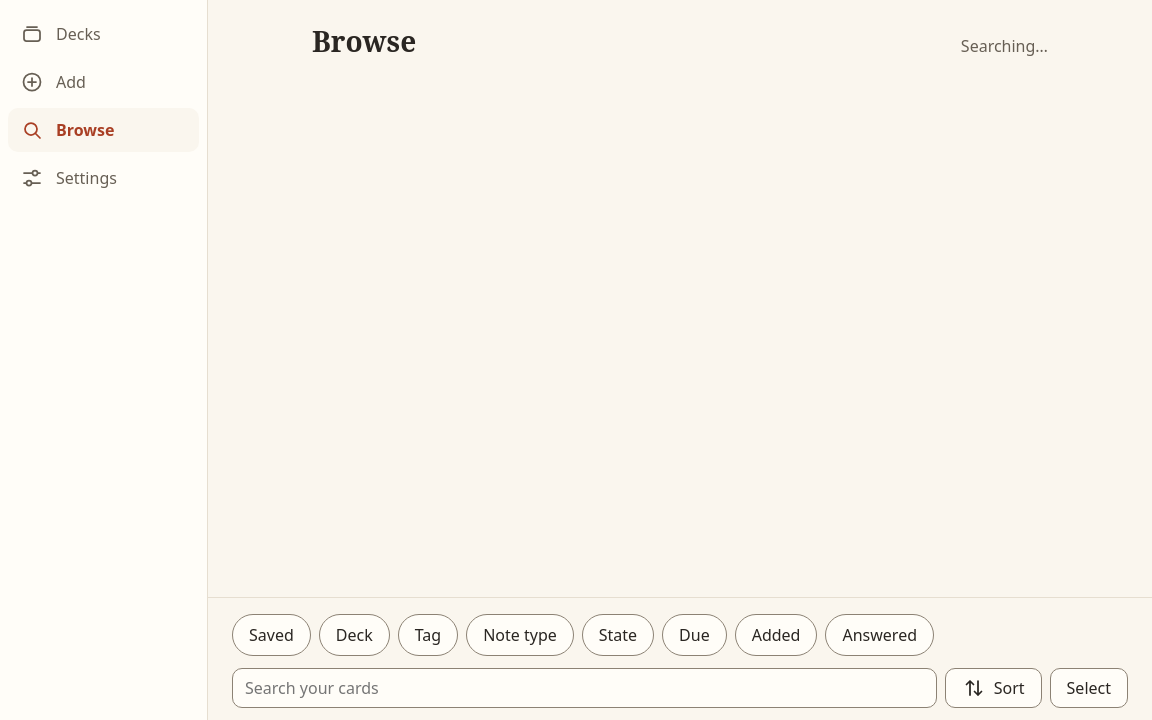
Test: Saved searches › tapping one loads its chips, sort and mode, and its name shows under the heading
This screenshot has width=1152, height=720.
Click the button "Saved". click: (271, 635)
box: [233,615,310,655]
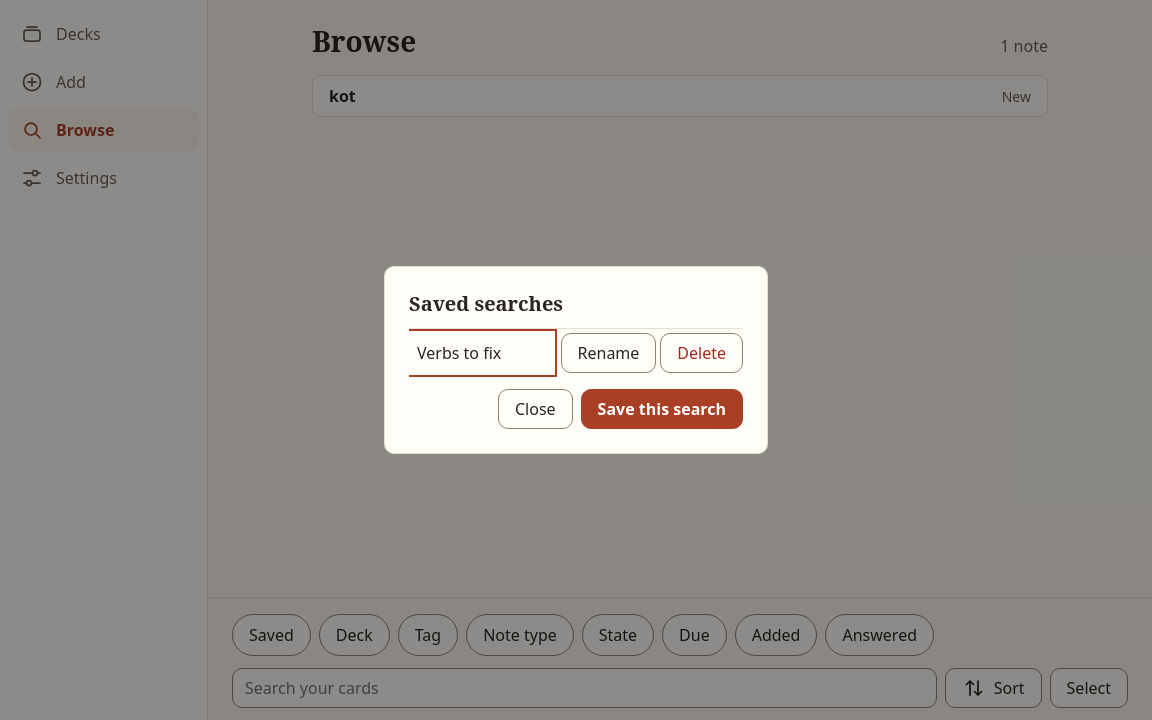
Click the button "Verbs to fix". click: (481, 353)
box: [409,333,552,373]
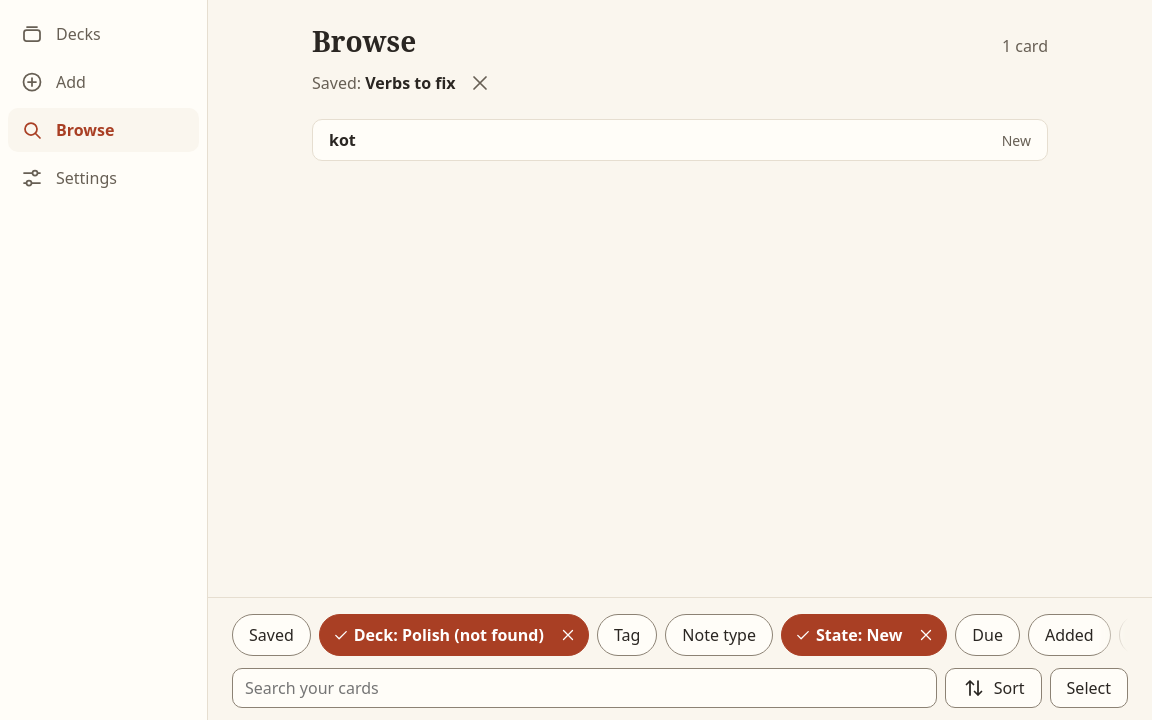
Now the dialog is gone
Now the element showing "Saved: Verbs to fix" is shown, box [312,71,456,95]
Now the button "Deck: Polish (not found)" is shown, box [320,615,548,655]
